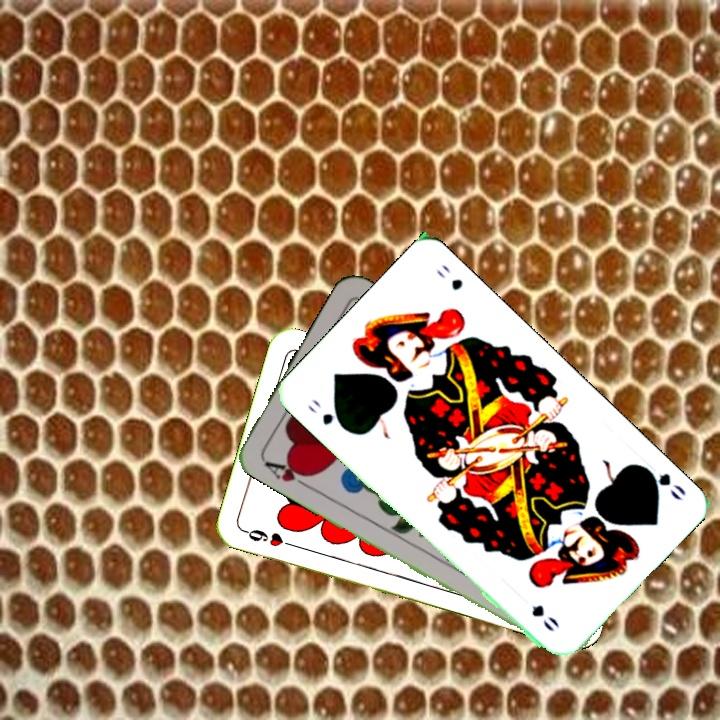GO: (637, 461, 689, 504), (304, 395, 350, 434)
H9: (239, 525, 297, 550)
HA: (260, 456, 315, 492)
